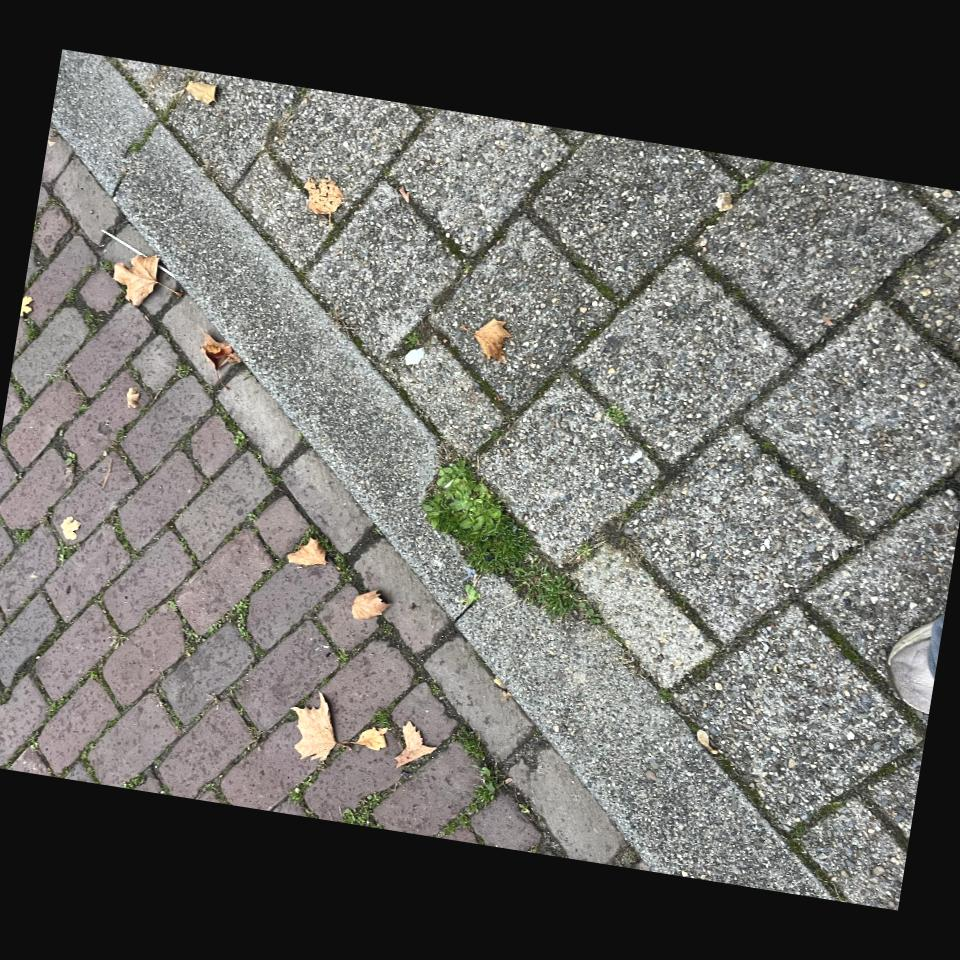weed: (203, 523, 362, 684), (0, 548, 96, 603), (0, 443, 41, 500), (182, 323, 225, 351), (55, 65, 96, 94), (472, 501, 498, 531), (280, 113, 295, 132), (211, 267, 223, 277), (188, 287, 193, 295)
